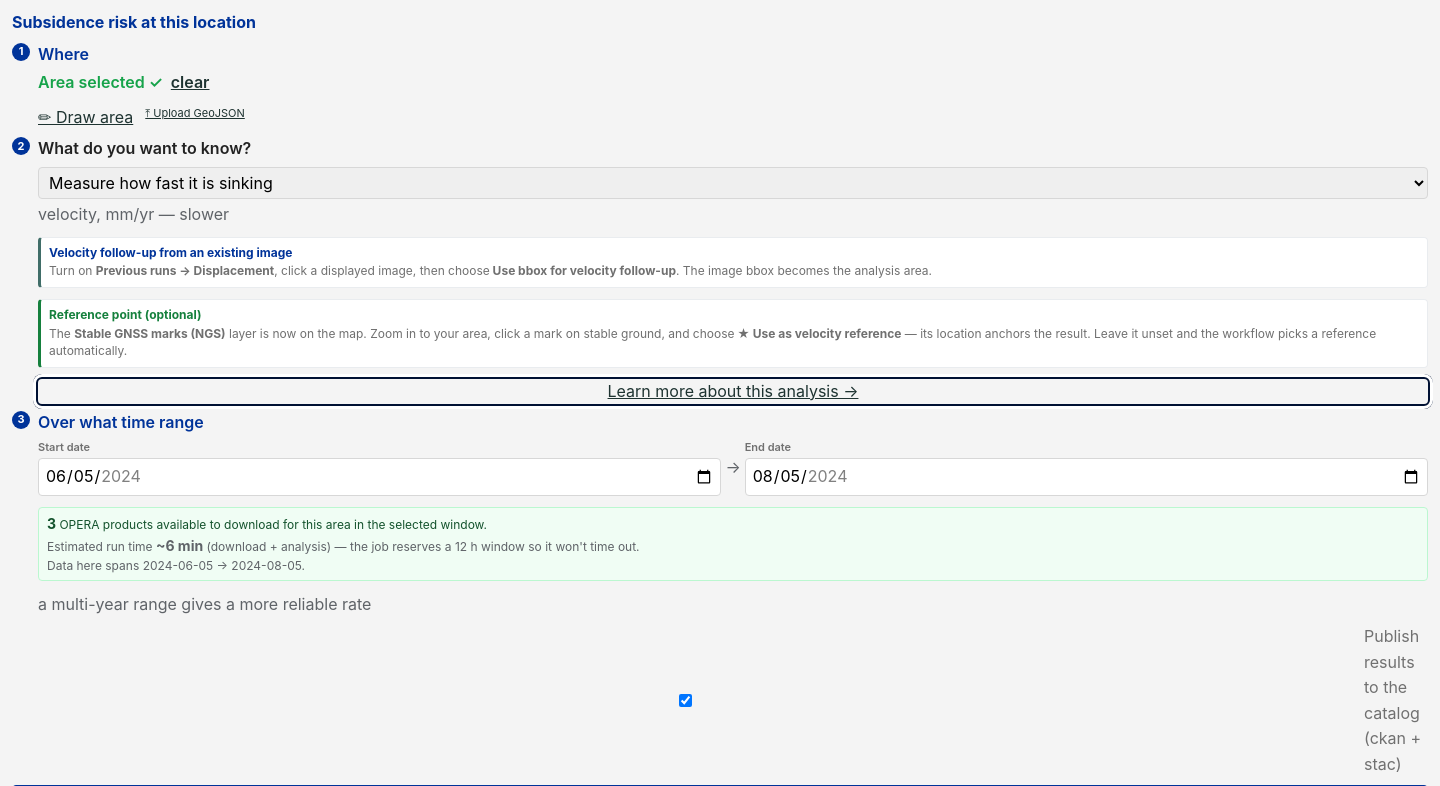
Scenario: dynamo mode › submits region then scenario with a Bearer token, once, and lists the run
Later steps or results of the test are not shown.
Expected: the checkbox labelled "Publish results to the catalog (ckan + stac)" is checked, [16,694,1355,707]
Select "See surface displacement" in the dropdown labelled "What do you want to know?": (733, 183) [38,167,1428,199]
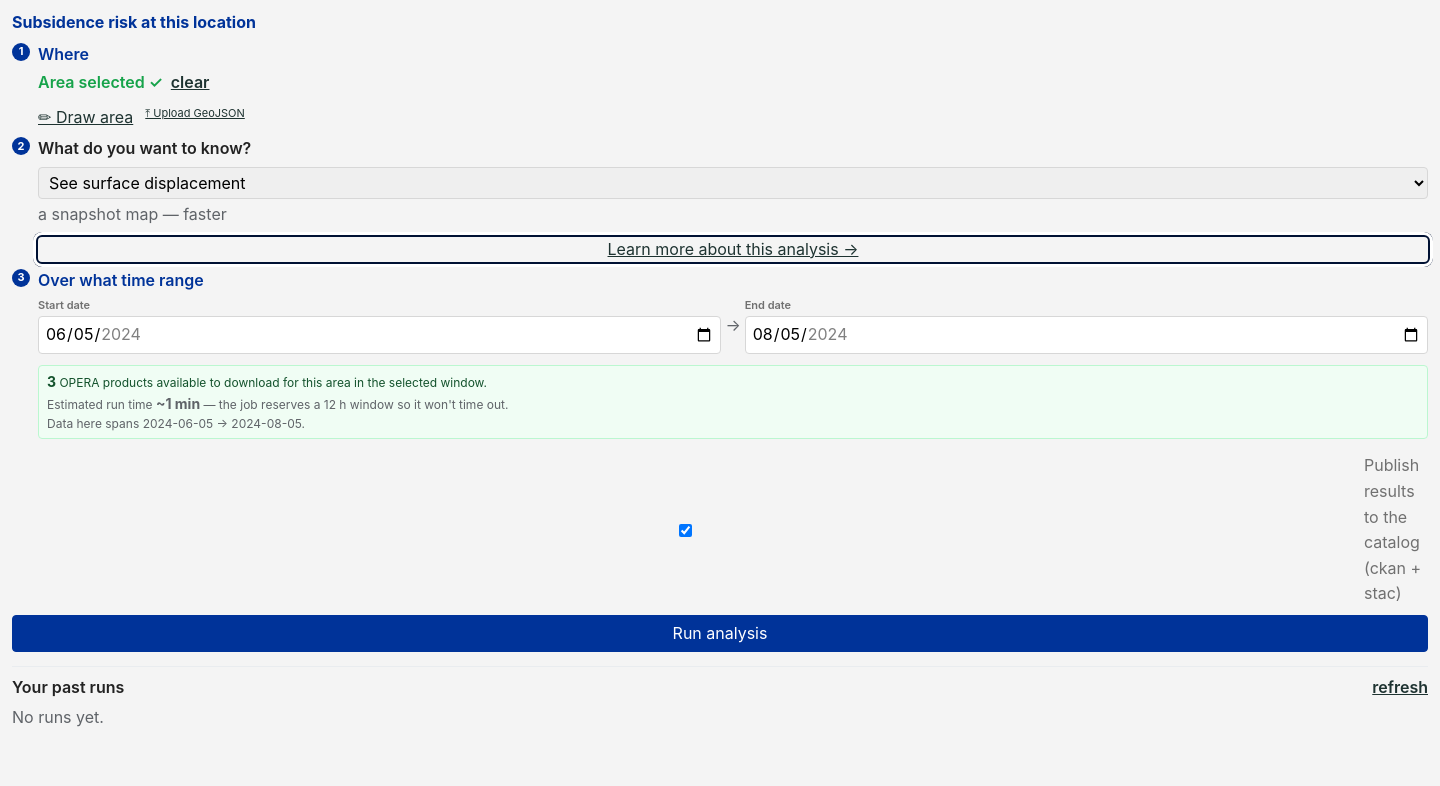
Click the button "Run analysis": (720, 634) [12,615,1428,652]
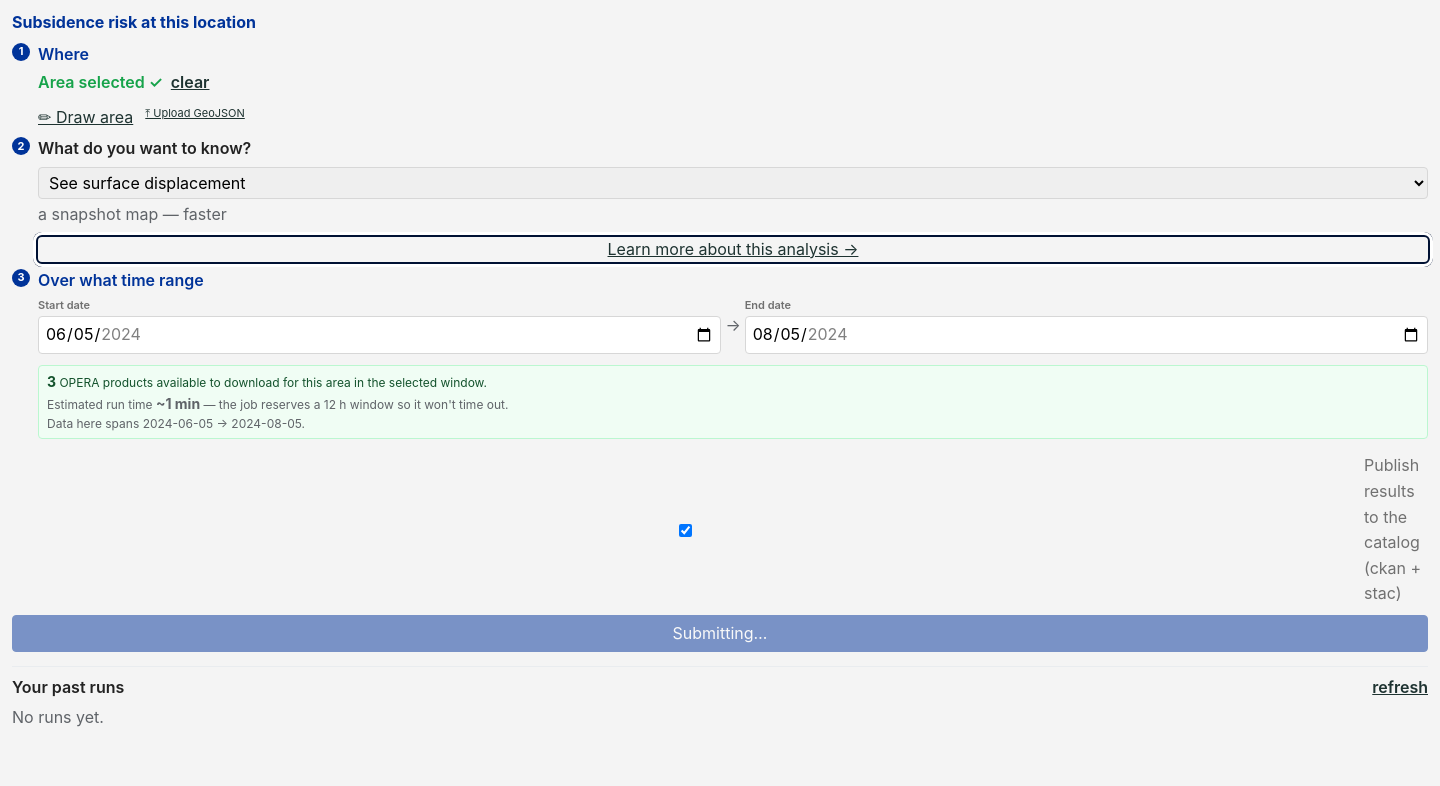
Click the button named "Run analysis": (720, 634) [12,615,1428,652]
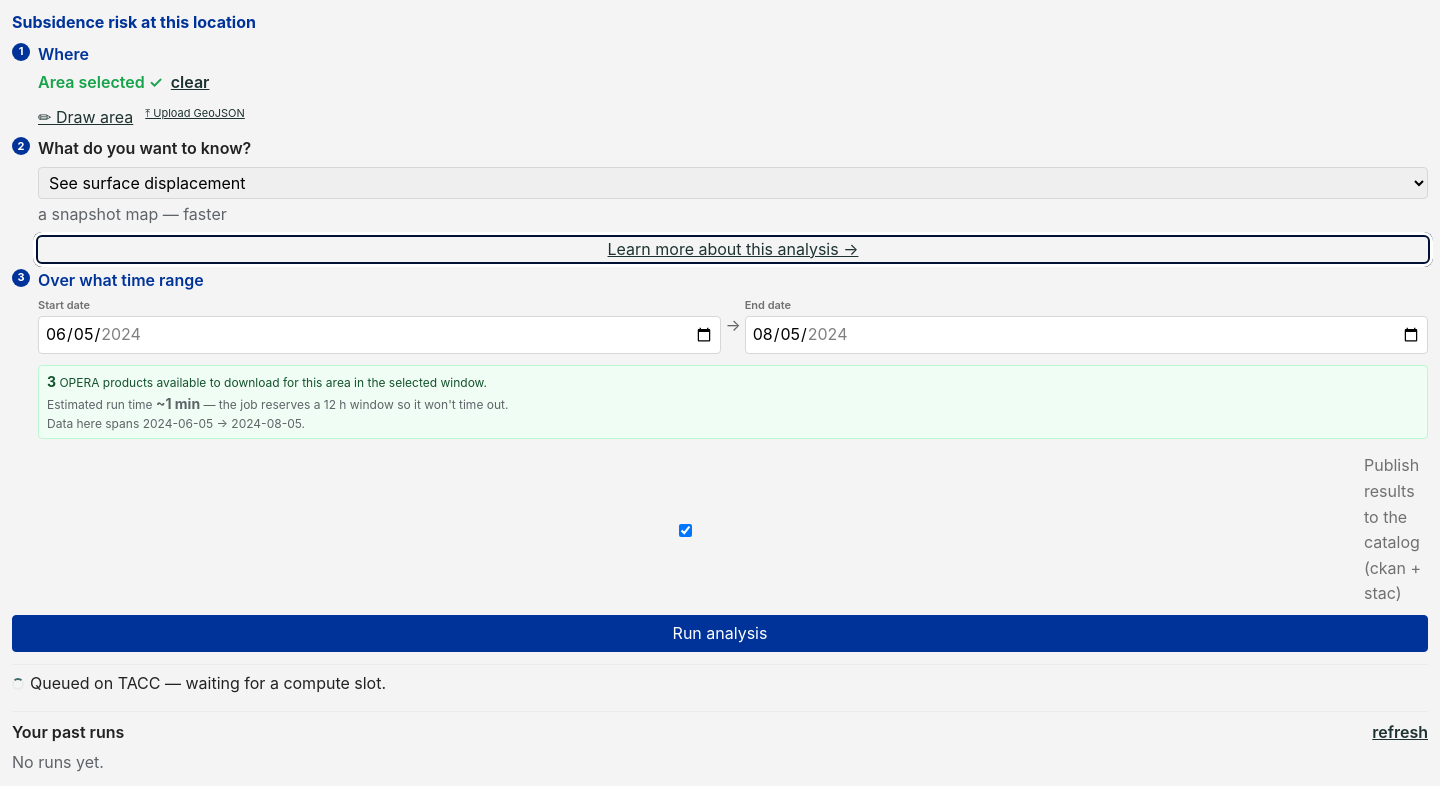
Now the button "Run analysis" is enabled, box [12,615,1428,652]
Now the text "Queued on TACC — waiting for a compute slot." is shown, box [30,672,386,697]
